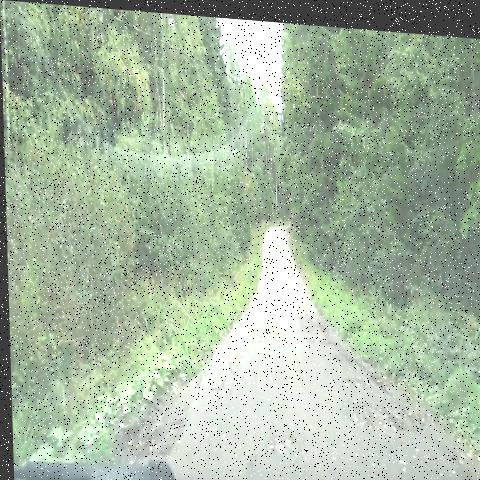pothole: (342, 392, 431, 439), (265, 420, 310, 466), (330, 363, 383, 399)
